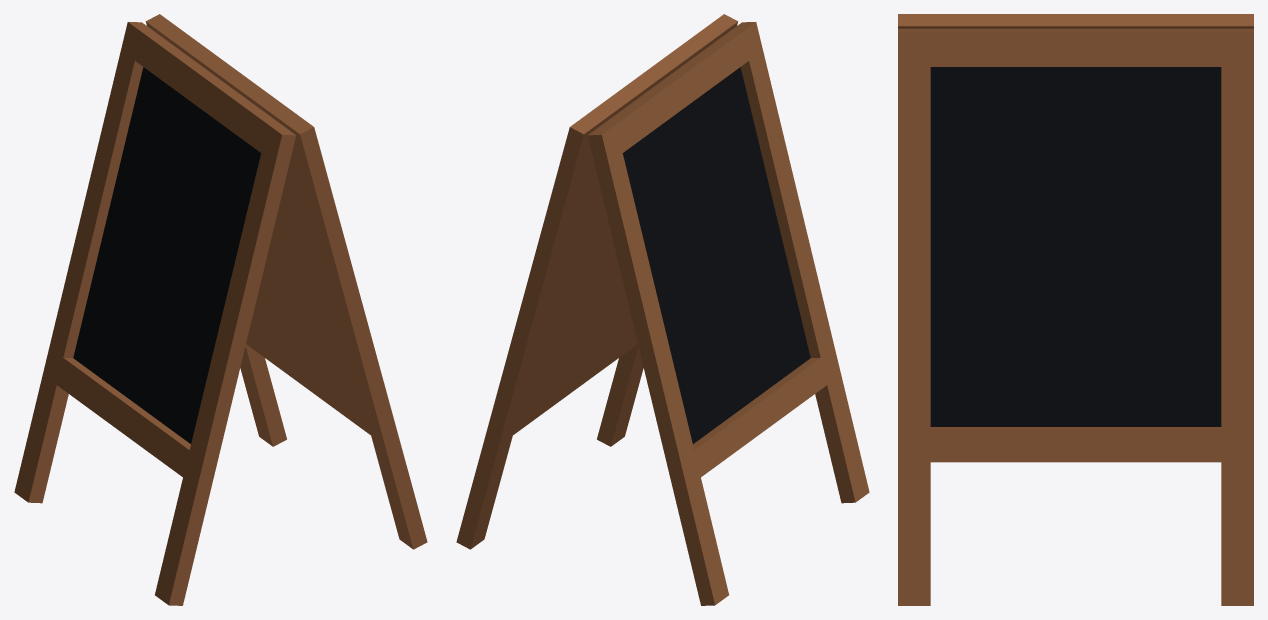
File: coffee_blackboard.fbx
3 renders of one model, left to right at view 1: azimuth 30°, elevation 25°; view 2: azimuth 150°, elevation 25°; view 3: azimuth 270°, elevation 25°, orthographic. The views are drawn at different scales.
Visible parts, largest first — view 1: coffee_blackboard_front, coffee_blackboard_back; view 2: coffee_blackboard_front, coffee_blackboard_back; view 3: coffee_blackboard_back, coffee_blackboard_front.
Part boxes in pixels (x1,y1,x2,y2): coffee_blackboard_front: (14, 22, 296, 605); coffee_blackboard_back: (145, 14, 427, 549); coffee_blackboard_front: (587, 22, 869, 605); coffee_blackboard_back: (456, 14, 738, 549); coffee_blackboard_back: (898, 28, 1253, 605); coffee_blackboard_front: (898, 14, 1253, 28).
Bounding box in the file's own units: 69.5 × 115 × 71.81.
Materials: 1 (1 with a texture image).
